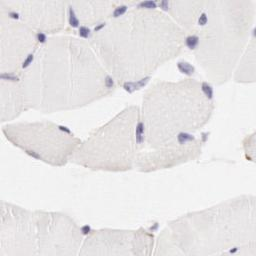nucleus: (177, 61, 195, 76), (68, 4, 79, 27), (201, 80, 214, 99), (136, 75, 151, 89), (185, 35, 199, 49), (135, 122, 144, 143), (178, 133, 194, 144), (79, 26, 92, 39), (123, 81, 136, 94), (113, 5, 127, 17), (197, 12, 209, 26), (1, 72, 17, 82), (22, 54, 34, 67), (137, 1, 157, 8), (6, 10, 19, 19), (104, 75, 113, 87), (59, 125, 70, 134), (95, 22, 105, 31), (81, 224, 90, 234), (37, 32, 45, 43), (160, 1, 168, 12), (30, 152, 39, 160), (251, 25, 256, 38), (151, 222, 159, 230), (230, 247, 237, 252)
